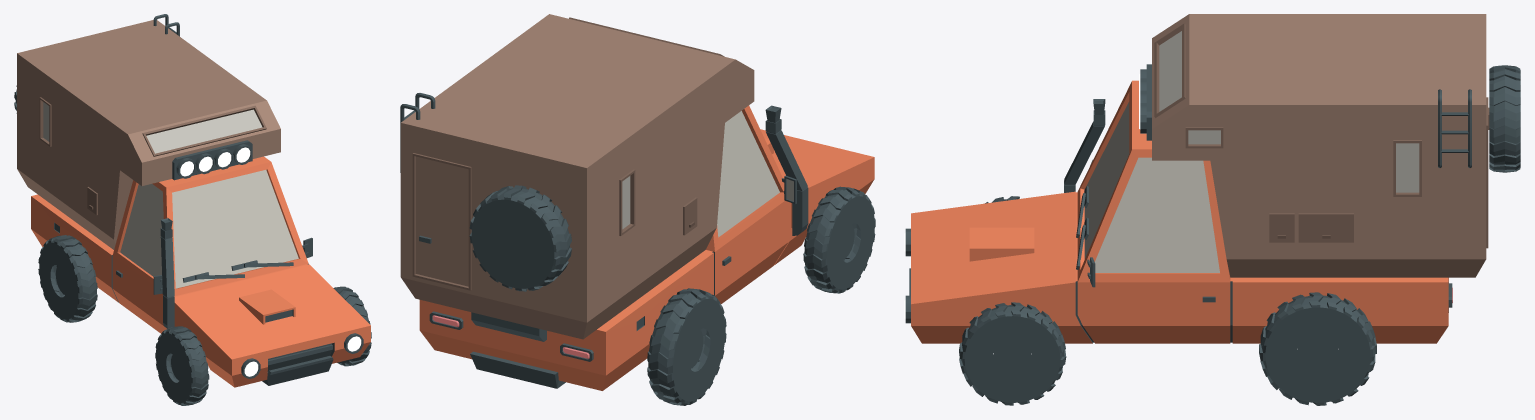
Rendered from car.glb.
The picture shows the model from 3 angles, left to right: view 1: azimuth 30°, elevation 25°; view 2: azimuth 150°, elevation 25°; view 3: azimuth 270°, elevation 25°; orthographic projection. The views are drawn at different scales.
Visible parts, largest first — view 1: Chassis, Wheel_RR, Wheel_FR, Wheel_FL; view 2: Chassis, Wheel_RR, Wheel_FR; view 3: Chassis, Wheel_RL, Wheel_FL.
Part boxes in pixels (bbox=[...]): Chassis: bbox=[14, 14, 370, 387]; Wheel_RR: bbox=[38, 235, 97, 322]; Wheel_FR: bbox=[155, 326, 209, 405]; Wheel_FL: bbox=[333, 286, 371, 366]; Chassis: bbox=[400, 14, 874, 390]; Wheel_RR: bbox=[647, 288, 726, 405]; Wheel_FR: bbox=[803, 186, 875, 293]; Chassis: bbox=[904, 14, 1520, 343]; Wheel_RL: bbox=[1259, 292, 1376, 405]; Wheel_FL: bbox=[959, 302, 1066, 405].
Size of the model in its own units: 2.6 by 3.1 by 5.73.
